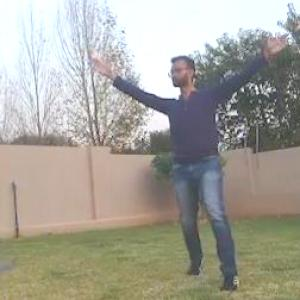takeoff: (89, 25, 287, 289)
